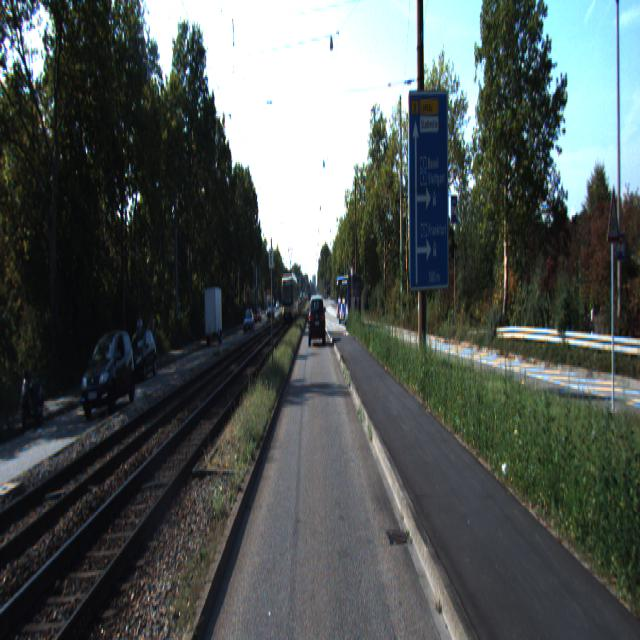Car: (80, 328, 139, 420), (123, 330, 158, 387), (335, 274, 363, 327), (204, 288, 222, 347), (309, 299, 325, 348)
